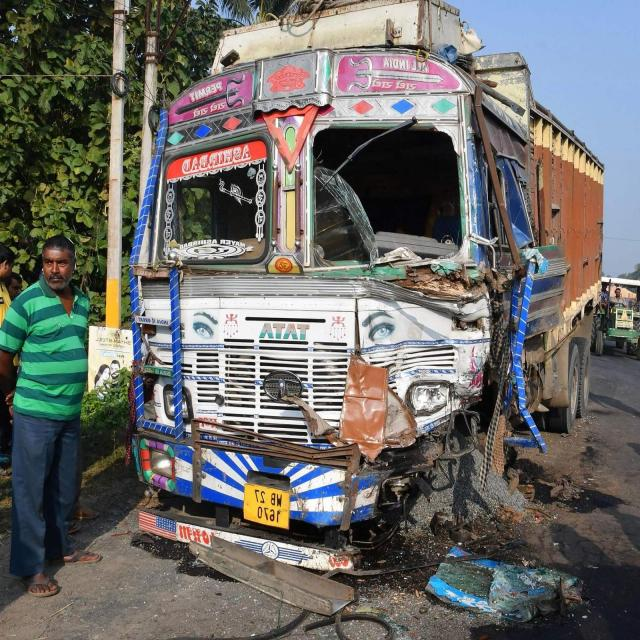accident: (130, 0, 604, 613)
truck: (592, 276, 640, 359)
